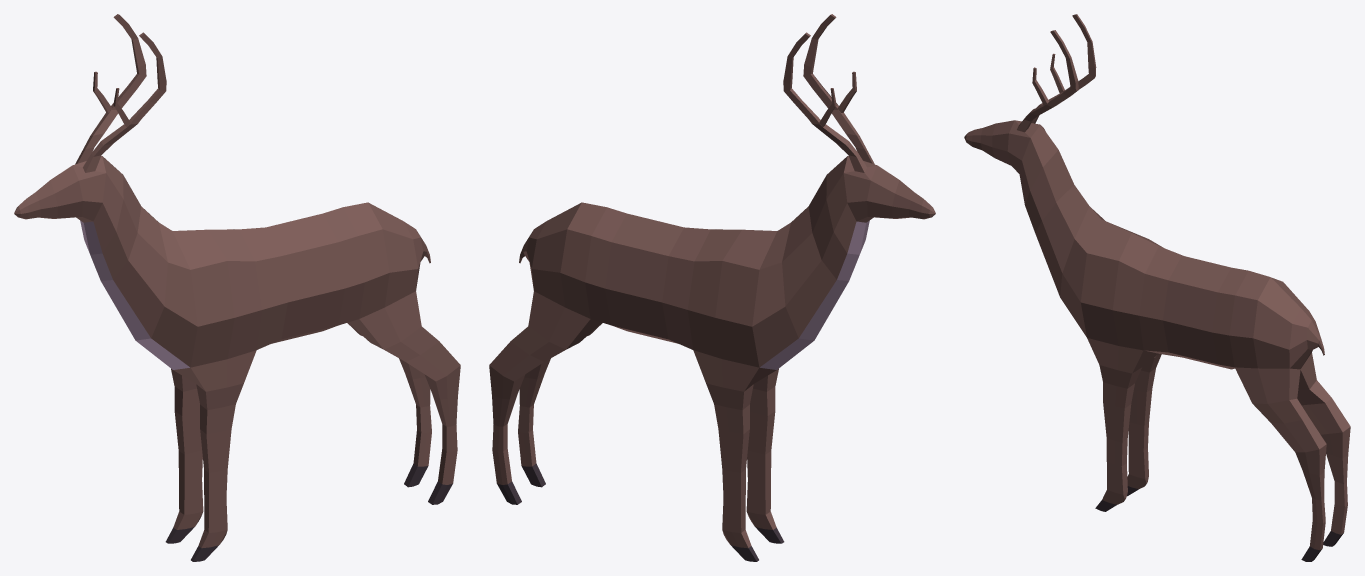
Rendered from Deer.fbx.
The picture shows the model from 3 angles, left to right: view 1: azimuth 30°, elevation 25°; view 2: azimuth 150°, elevation 25°; view 3: azimuth 330°, elevation 25°; orthographic projection. The views are drawn at different scales.
Visible parts, largest first — view 1: Cylinder; view 2: Cylinder; view 3: Cylinder.
Boxes of the visible parts, x1,y1,x2,y2 form: Cylinder: (14,14,460,561); Cylinder: (489,14,935,561); Cylinder: (964,14,1350,561).
Bounding box in the file's own units: 49.32 × 250 × 301.
